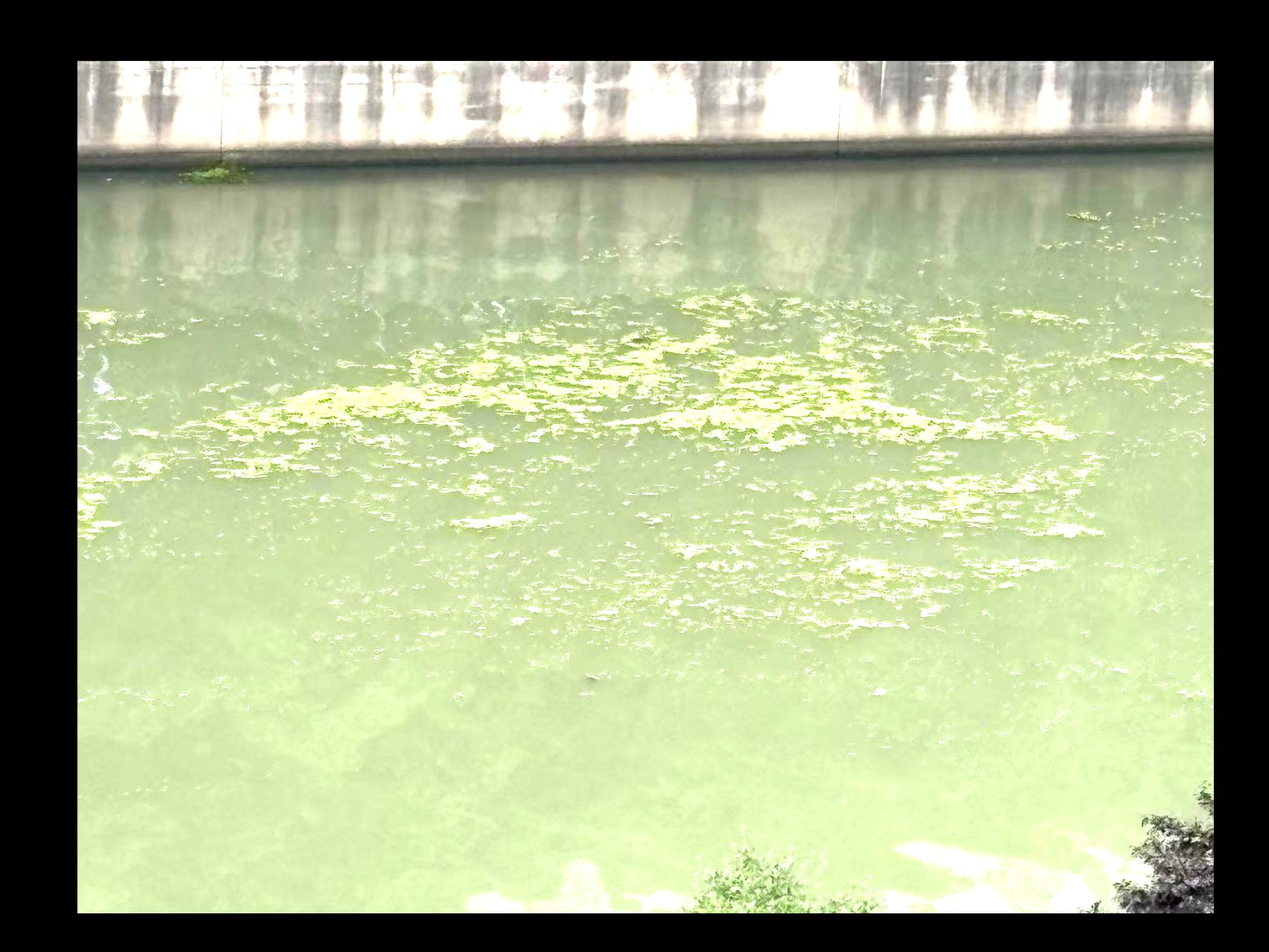Other: (624, 299, 890, 441), (872, 466, 1085, 531), (462, 334, 622, 414), (287, 378, 454, 425), (880, 411, 1059, 441), (809, 557, 929, 599), (217, 408, 280, 472), (907, 312, 982, 352), (123, 449, 178, 487), (972, 557, 1053, 582), (1113, 341, 1213, 361), (79, 474, 107, 544), (1001, 309, 1077, 330), (459, 512, 532, 533), (82, 305, 120, 328)
